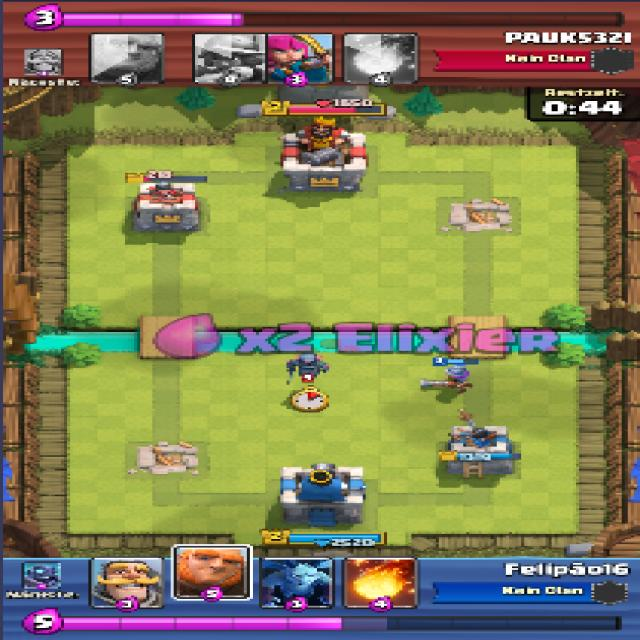Enemy-MiniPEKKA: (284, 353, 329, 381)
Player-Musketeer: (421, 364, 474, 391)
